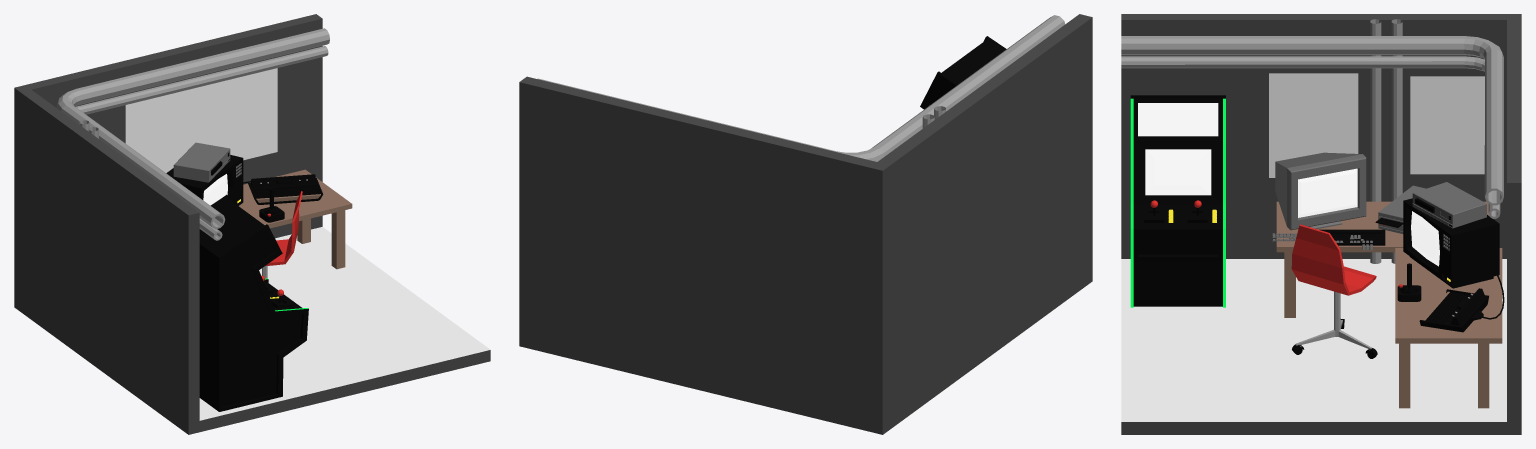
Rendered from gameroom.glb.
The picture shows the model from 3 angles, left to right: view 1: azimuth 30°, elevation 25°; view 2: azimuth 150°, elevation 25°; view 3: azimuth 270°, elevation 25°; orthographic projection. The views are drawn at different scales.
Visible parts, largest first — view 1: Room, Jatekgep, 80s-Retro-Sci-Fi-FPoster-and-lyer-Templates-for-Adobe-Photos, pipestop, Table, VHS, Labak, Plane.010, Plane.001, Plane, Plane.003, TV (+1 smaller); view 2: Room, pipestop, Jatekgep; view 3: Room, Jatekgep, pipestop, space-sluts-vintage-sci-fi-comic-book-cover-long-shot, robotlegion, Monitor, Table, Arcade game machine, Plane, TV, Table.002, Plane.010 (+11 smaller).
Part boxes in pixels (left/top/right/bottom): Room: left=14, top=14, right=490, bottom=434; Jatekgep: left=199, top=194, right=308, bottom=411; 80s-Retro-Sci-Fi-FPoster-and-lyer-Templates-for-Adobe-Photos: left=125, top=68, right=277, bottom=172; pipestop: left=56, top=28, right=329, bottom=240; Table: left=239, top=169, right=352, bottom=228; VHS: left=173, top=142, right=229, bottom=182; Labak: left=297, top=210, right=345, bottom=269; Plane.010: left=201, top=164, right=234, bottom=205; Plane.001: left=248, top=174, right=323, bottom=204; Plane: left=265, top=191, right=302, bottom=265; Plane.003: left=253, top=186, right=320, bottom=199; TV: left=166, top=155, right=242, bottom=198; Room: left=519, top=14, right=1092, bottom=434; pipestop: left=537, top=15, right=1065, bottom=161; Jatekgep: left=920, top=36, right=1006, bottom=109; Room: left=1121, top=14, right=1521, bottom=434; Jatekgep: left=1130, top=95, right=1225, bottom=307; pipestop: left=1121, top=36, right=1503, bottom=218; space-sluts-vintage-sci-fi-comic-book-cover-long-shot: left=1269, top=73, right=1358, bottom=177; robotlegion: left=1410, top=76, right=1484, bottom=174; Monitor: left=1275, top=152, right=1366, bottom=230; Table: left=1395, top=248, right=1502, bottom=343; Arcade game machine: left=1370, top=19, right=1402, bottom=263; Plane: left=1291, top=224, right=1376, bottom=295; TV: left=1403, top=198, right=1499, bottom=288; Table.002: left=1276, top=201, right=1488, bottom=252; Plane.010: left=1403, top=201, right=1441, bottom=278.
Size of the model in its own units: 8.3 by 5.8 by 8.3.
